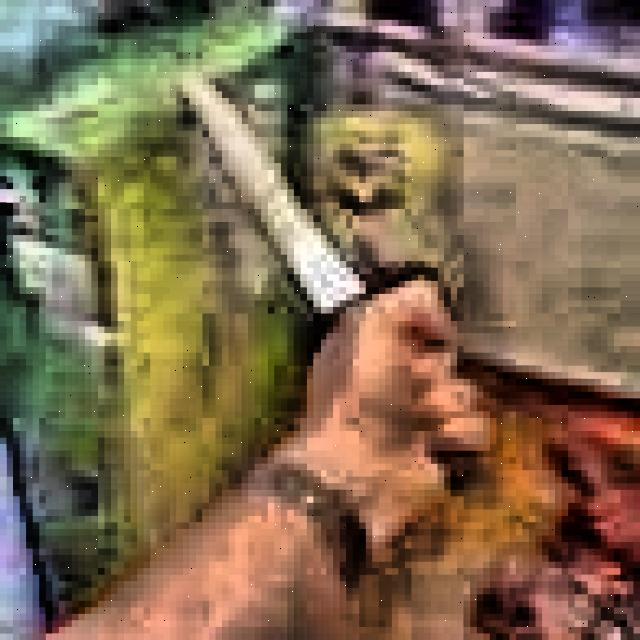knife: (188, 82, 477, 491)
